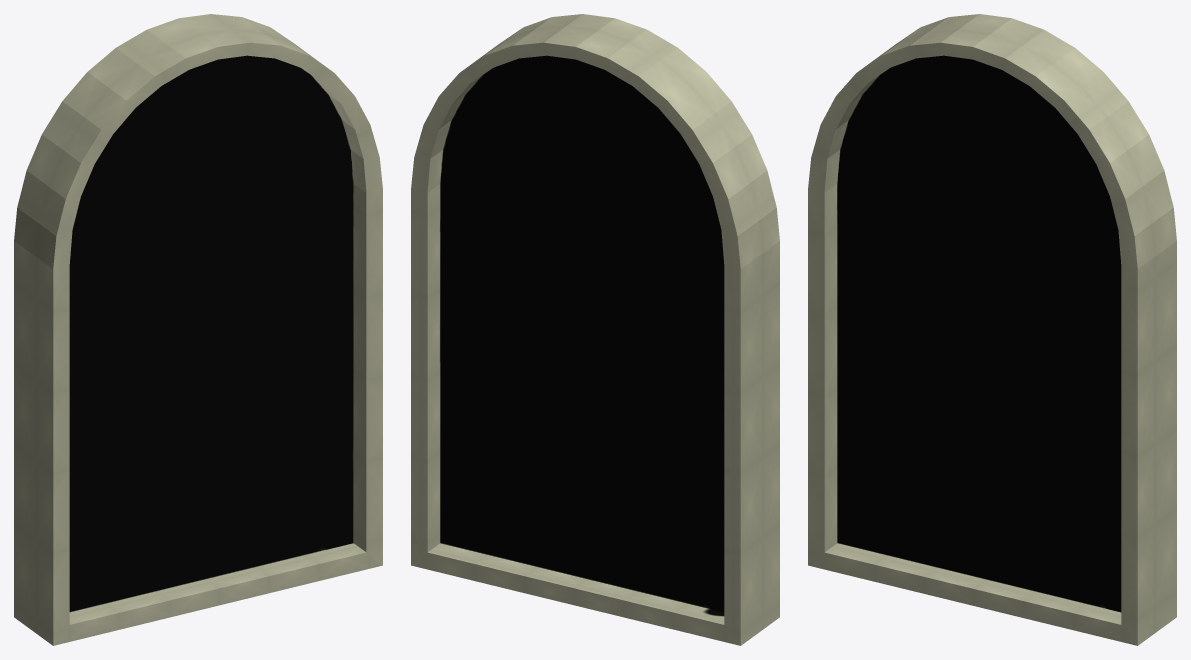
The model's file is Castle Window Small.fbx.
The picture shows the model from 3 angles, left to right: view 1: azimuth 30°, elevation 25°; view 2: azimuth 150°, elevation 25°; view 3: azimuth 330°, elevation 25°; orthographic projection.
Parts seen in each view (by area): view 1: Window 2; view 2: Window 2; view 3: Window 2.
Boxes of the visible parts, x1=… form: Window 2: x1=14, y1=14, x2=382, y2=645; Window 2: x1=411, y1=14, x2=779, y2=645; Window 2: x1=808, y1=14, x2=1176, y2=645.
Bounding box in the file's own units: 94.68 × 153 × 19.49.
Materials: 1 (1 with a texture image).
